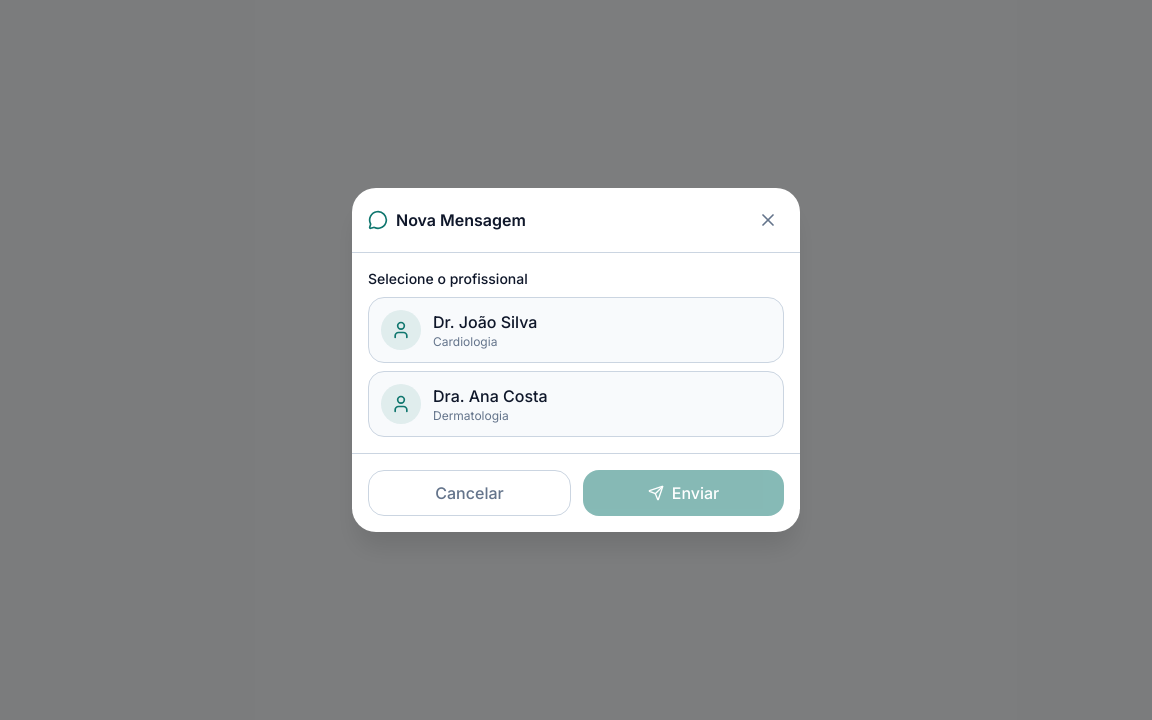
Scenario: NewConversationModal › form submission › should show loading state during send
The image size is (1152, 720).
Select professional
Step 1. Click the button "Dr. João Silva Cardiologia" → [401, 330], box [368,297,784,363]
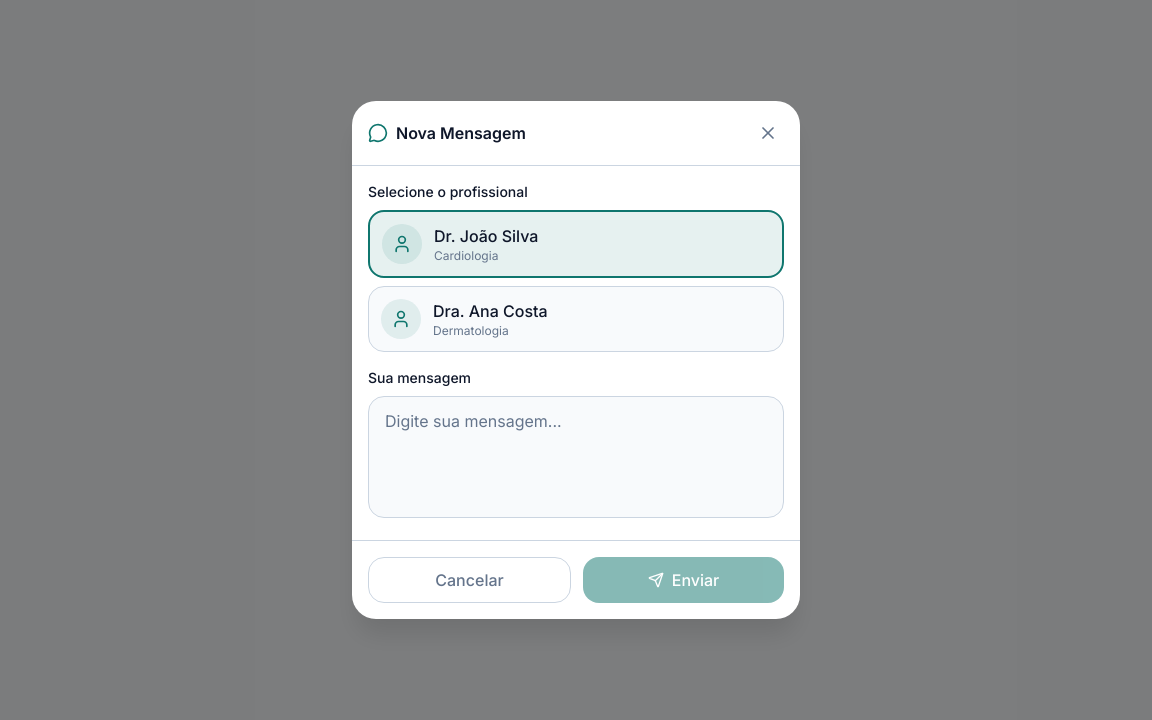
Enter message
Step 2. Type "Test message" into the text box with placeholder "Digite sua mensagem..." → [576, 457], box [368,396,784,518]
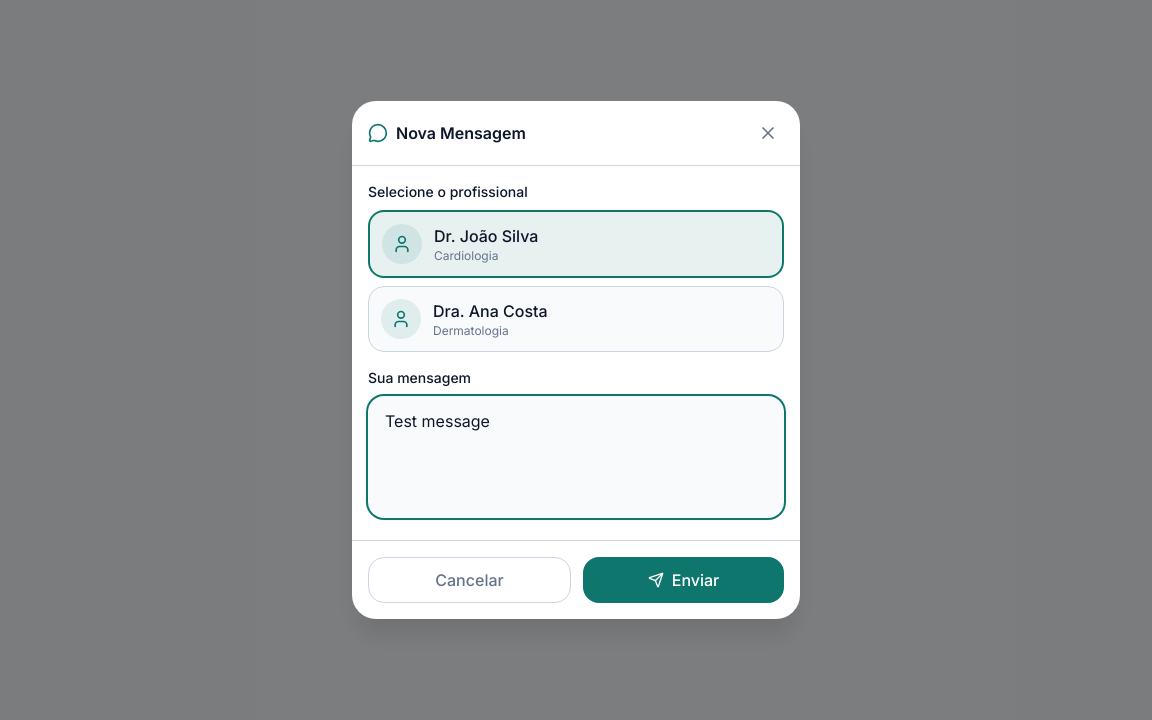
Step 3. Click the button "Enviar" → [684, 580], box [583,557,784,603]
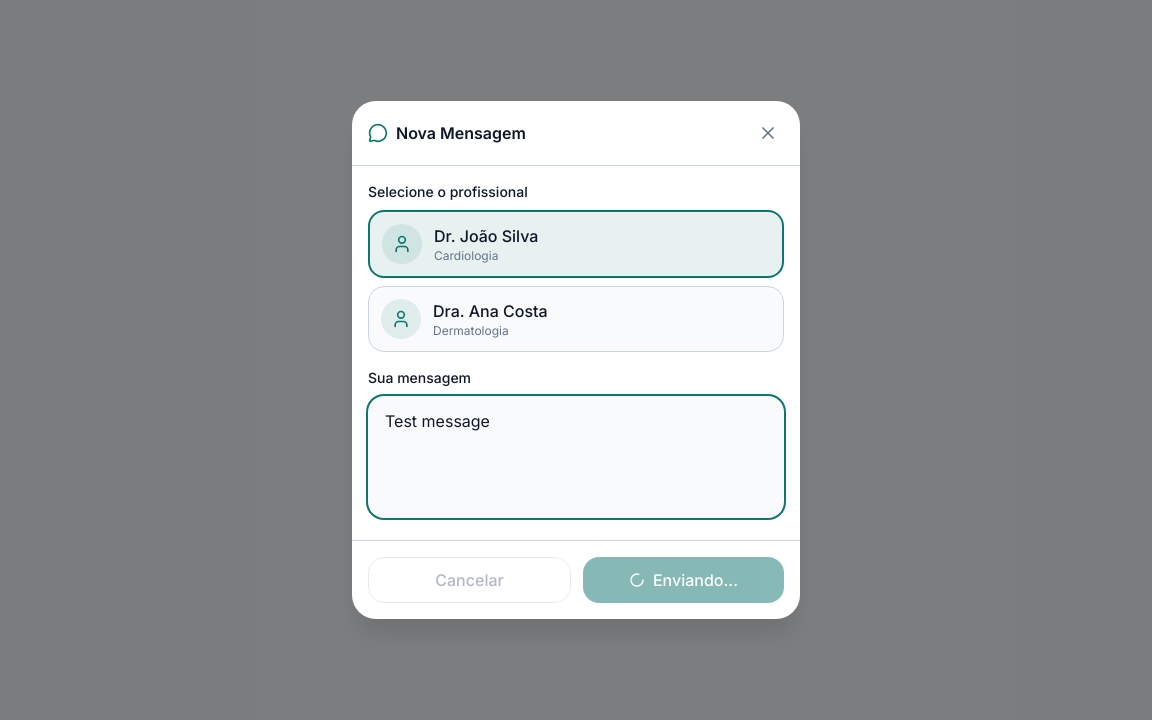
Expected: the button "Enviando..." is shown, [583,557,784,603]
